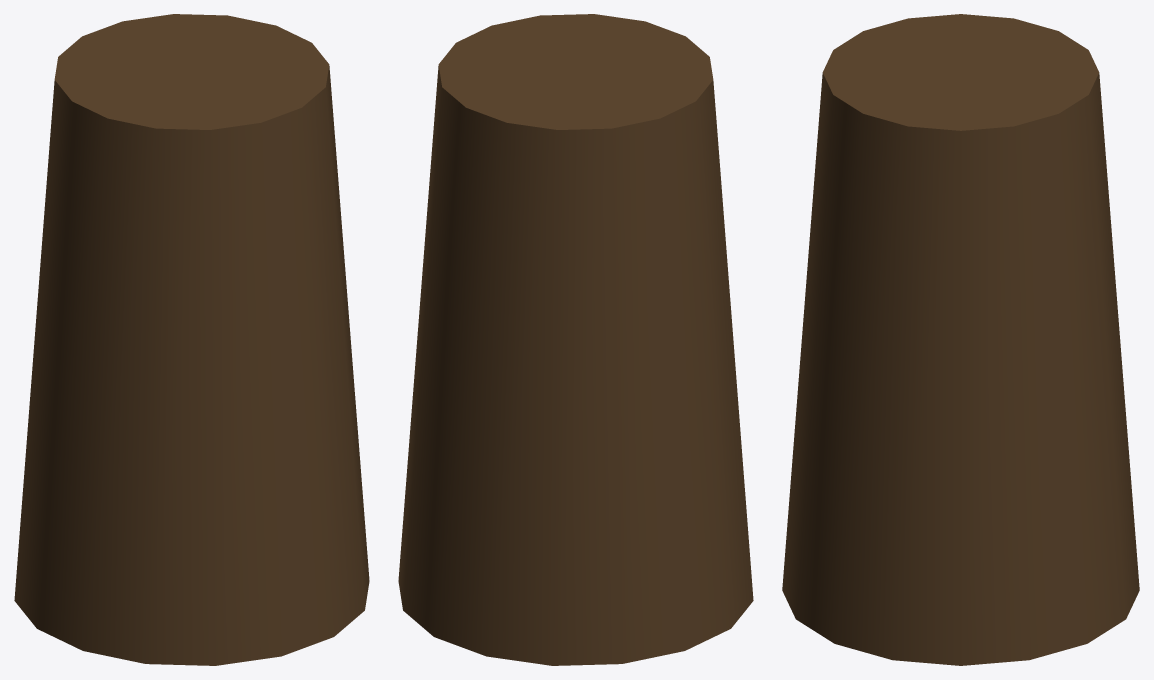
Rendered from trunk-lower.glb.
3 renders of one model, left to right at view 1: azimuth 30°, elevation 25°; view 2: azimuth 150°, elevation 25°; view 3: azimuth 270°, elevation 25°, orthographic.
Visible parts, largest first — view 1: Trunk Lower; view 2: Trunk Lower; view 3: Trunk Lower.
Part boxes in pixels (<box>): Trunk Lower: <box>14,14,369,665</box>; Trunk Lower: <box>398,14,753,665</box>; Trunk Lower: <box>782,14,1139,665</box>.
Size of the model in its own units: 29.94 by 47.87 by 29.94.
